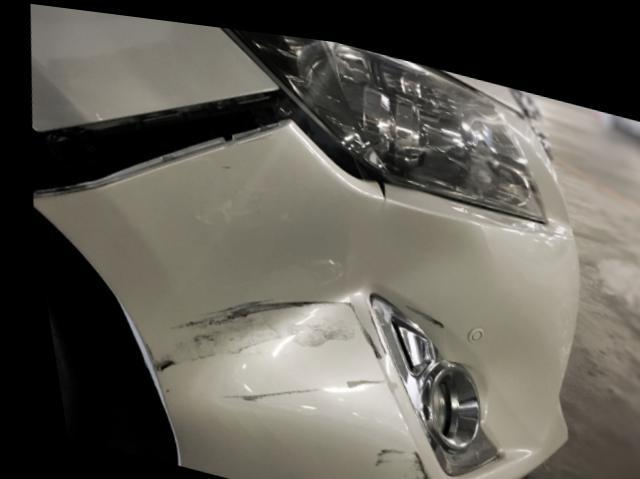crack: (371, 172, 382, 201)
dislocated part: (27, 80, 380, 224)
scratch: (136, 290, 379, 374), (240, 366, 382, 397), (359, 432, 425, 479), (398, 297, 435, 318)
